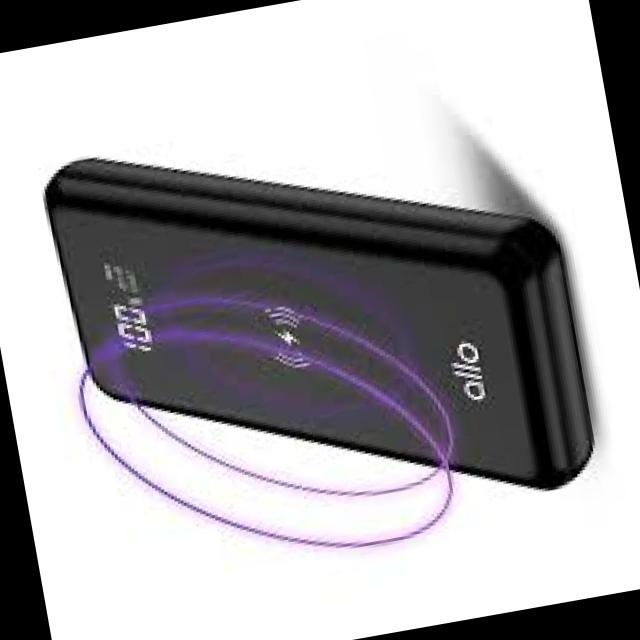portable-charger: (40, 73, 607, 564)
